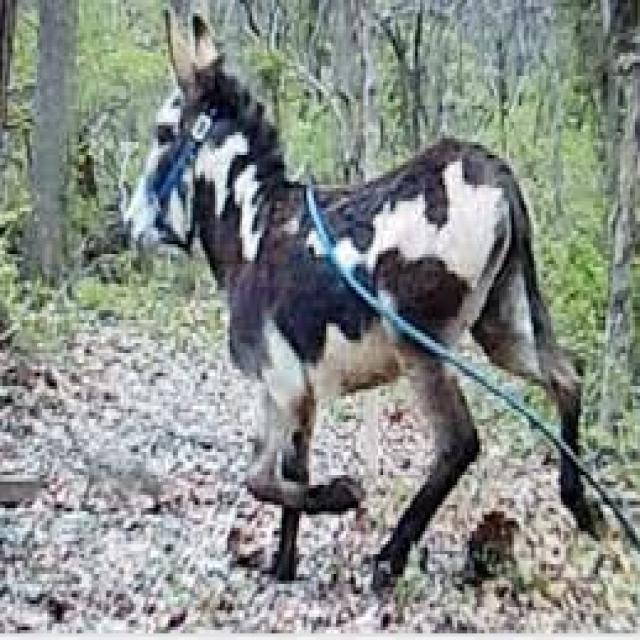Donkey: (121, 0, 611, 600)
